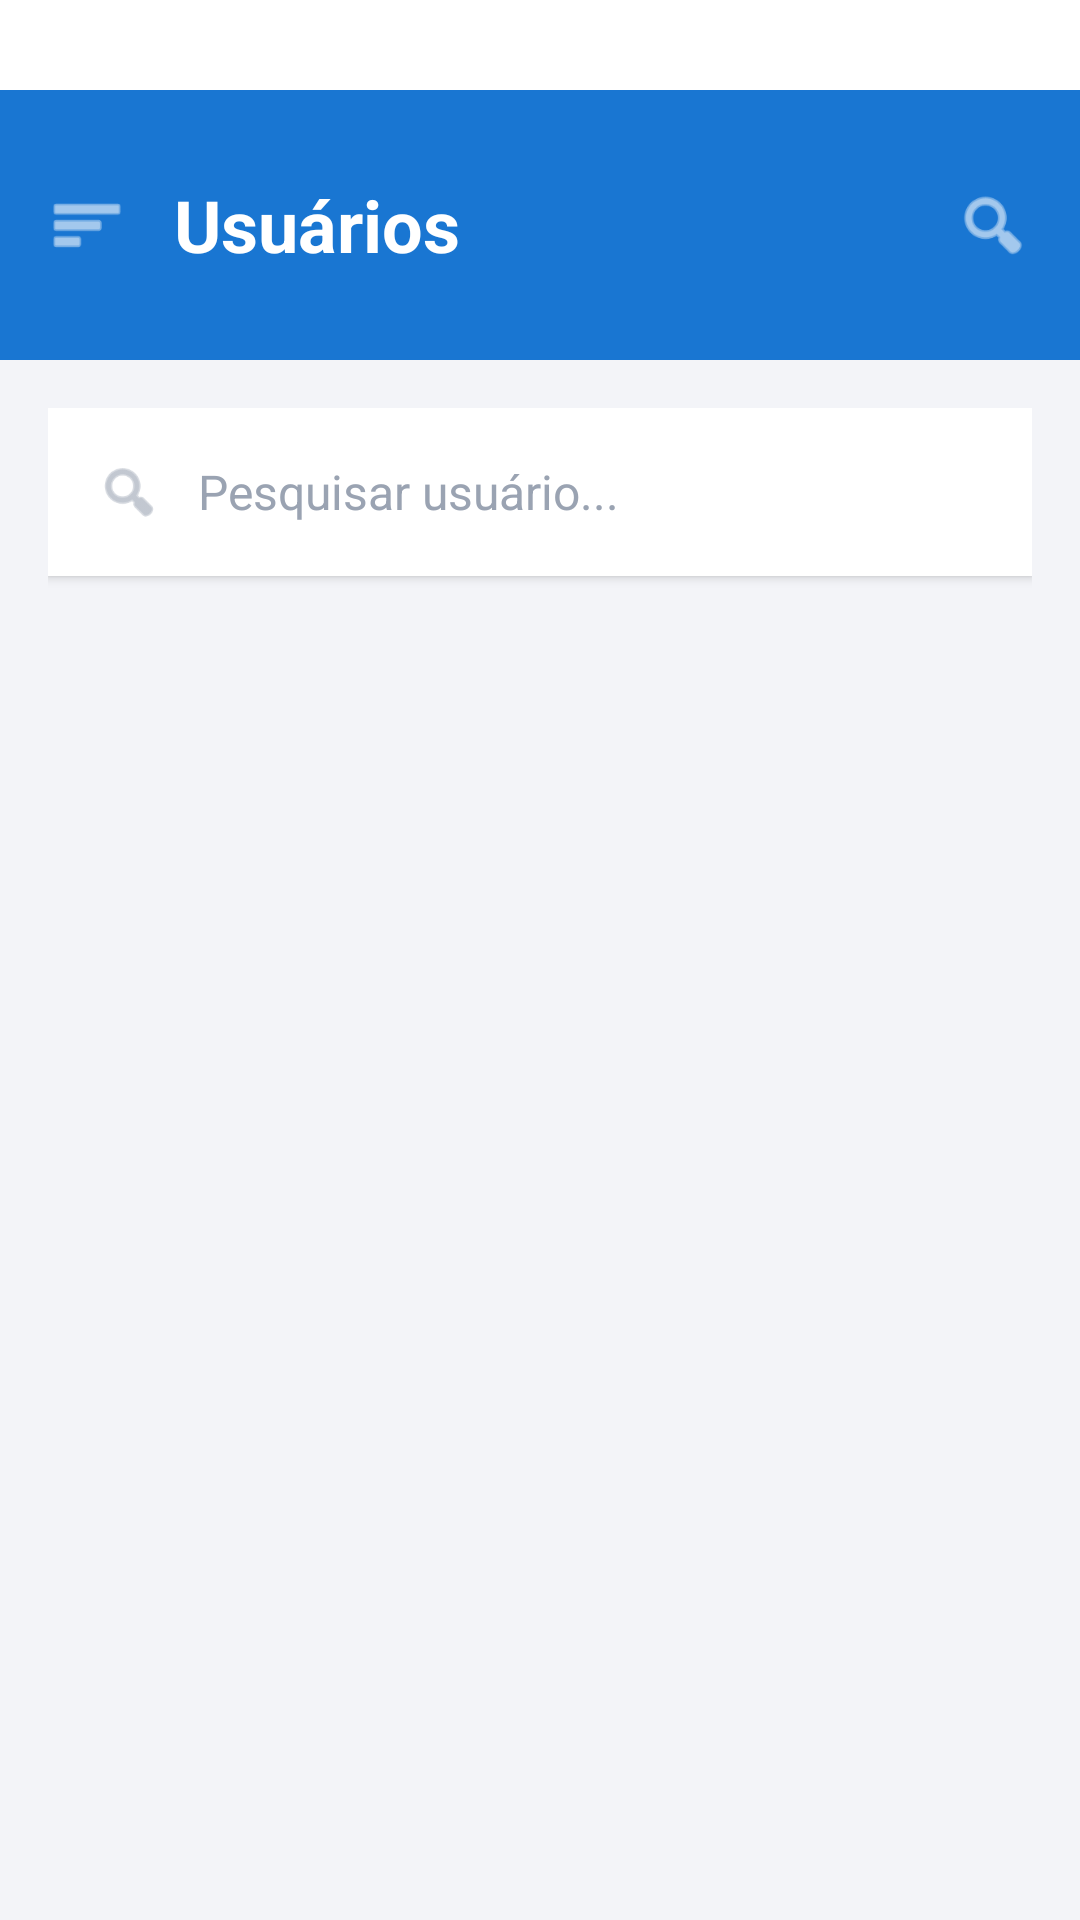

Screen size 1080 x 1920. Icon name, then its center in pixels as (x=x, y=y):
Buscar: (x=993, y=225), (x=129, y=492)
Menu: (x=87, y=225)
